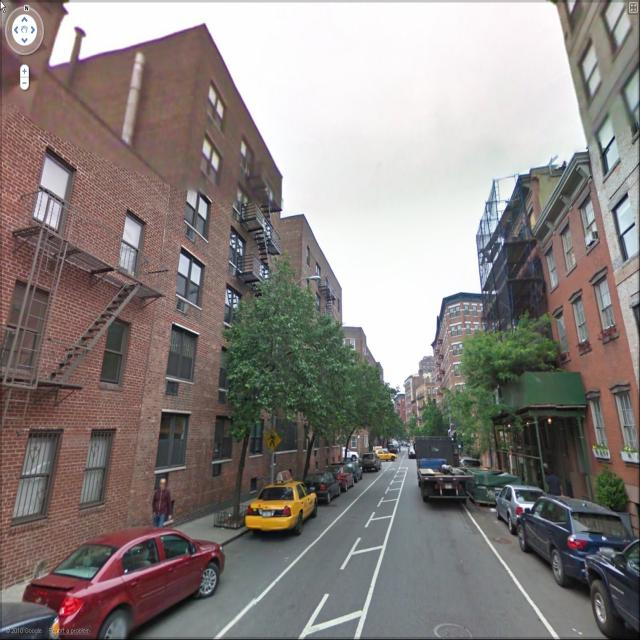b_1: (16, 53, 147, 546), (426, 281, 494, 390)
b_2: (168, 38, 273, 495), (470, 187, 593, 507), (276, 232, 360, 480), (329, 327, 391, 470)
